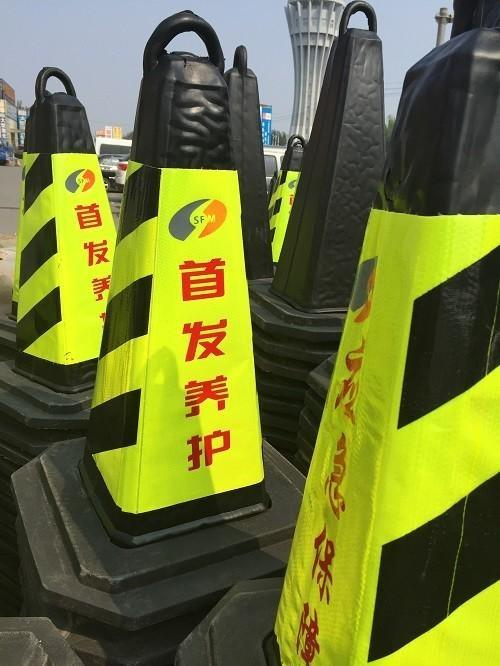cone_barrel: (312, 23, 499, 665), (76, 41, 279, 551), (1, 74, 129, 415), (270, 10, 386, 317), (268, 133, 305, 281)
